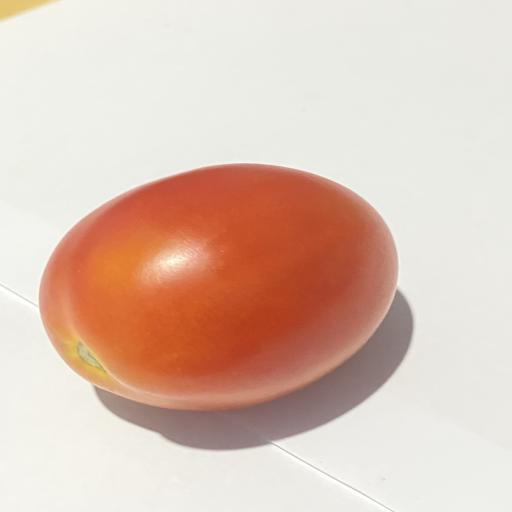ripe: (39, 164, 398, 410)
